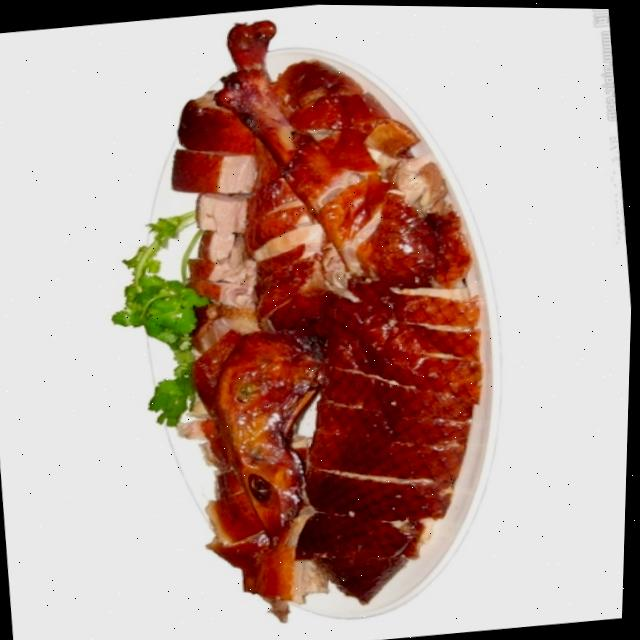烧串烤肉: (32, 1, 611, 640)
